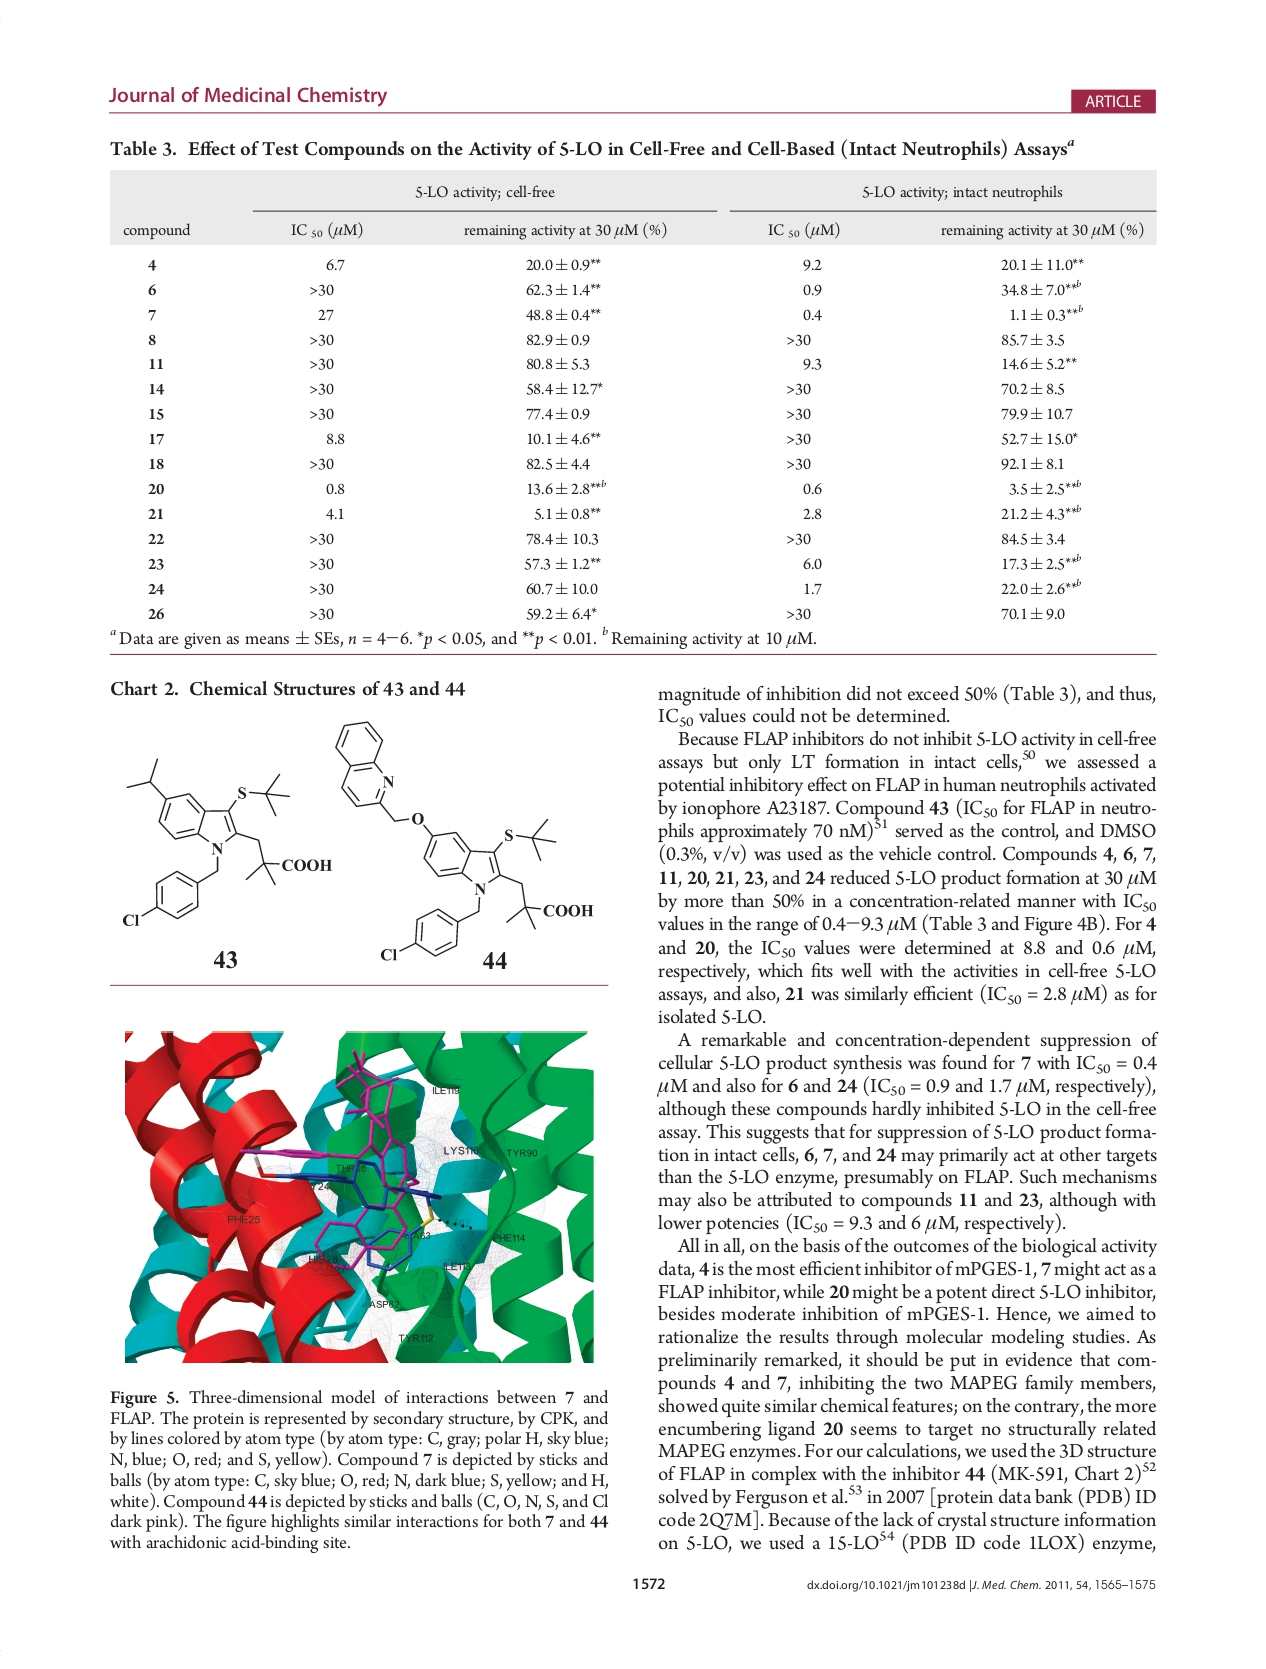exist_molecular: (336, 718, 594, 967), (118, 751, 336, 930)
